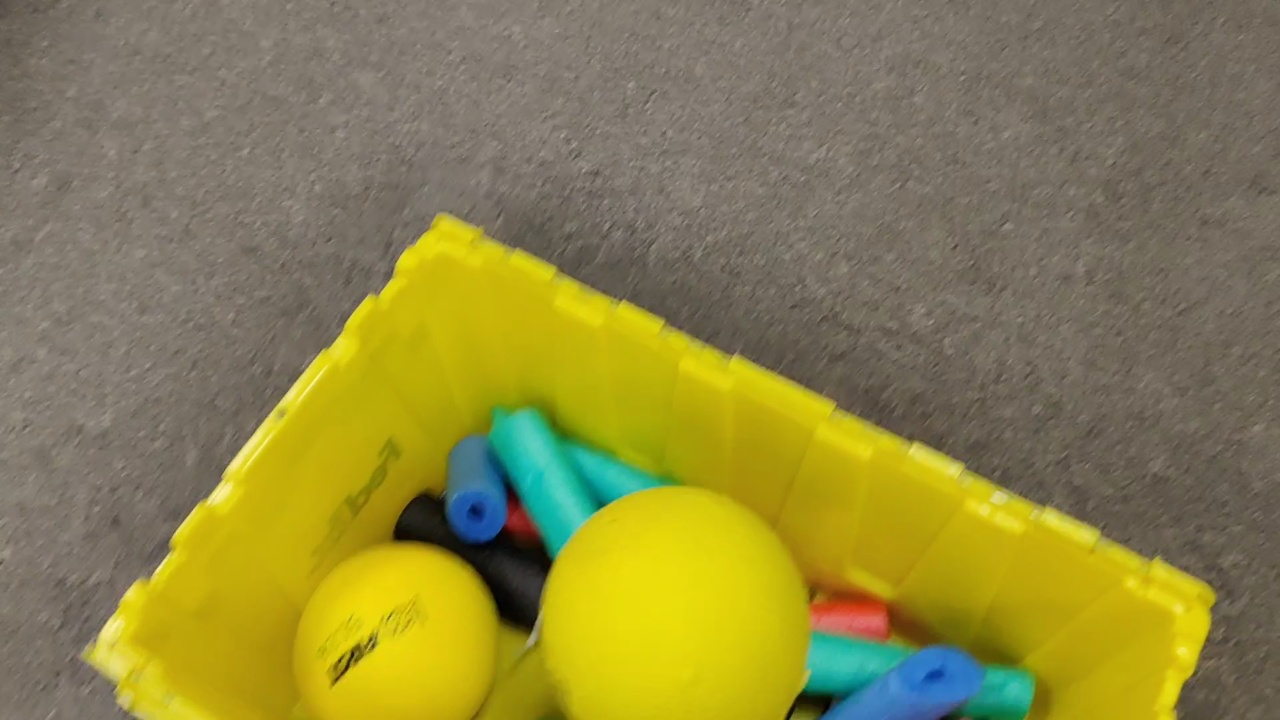Ball: (535, 486, 810, 720), (296, 545, 505, 720)
